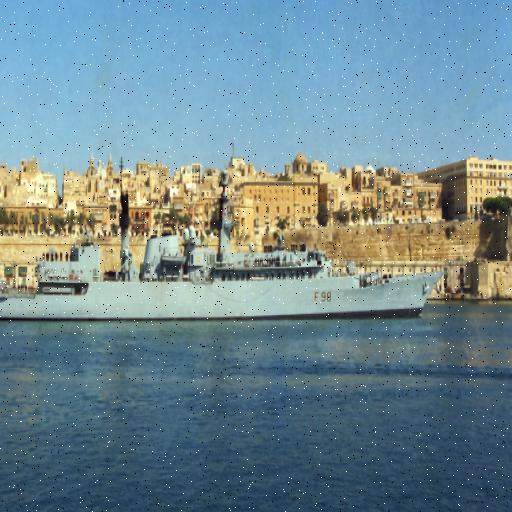Fragata: (1, 190, 447, 324)
